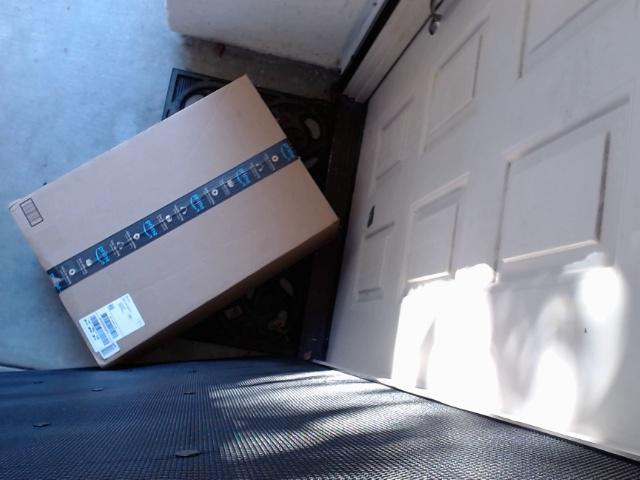box: (2, 73, 346, 370)
